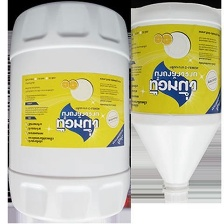cleaning_solution: (8, 0, 132, 222), (128, 1, 222, 205)
